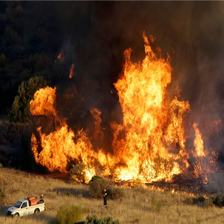fire: (14, 53, 211, 185)
